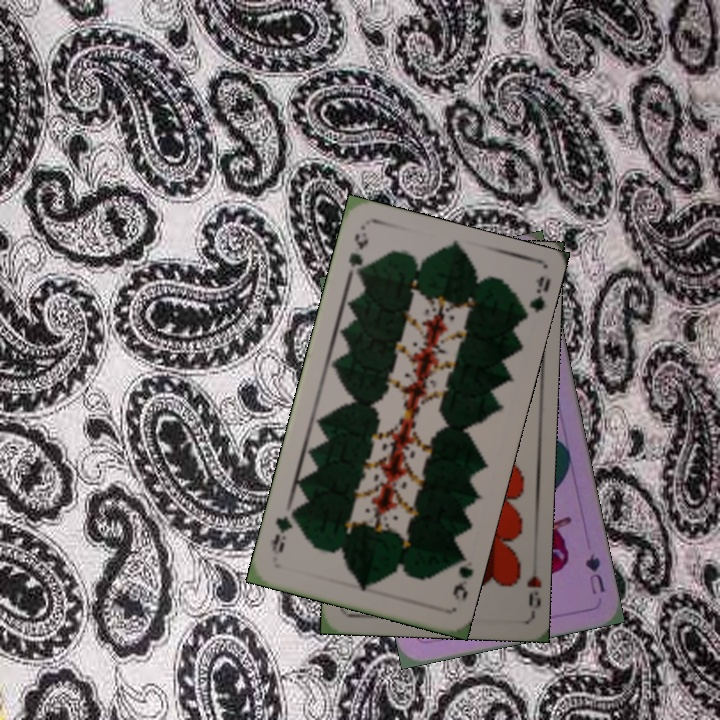G9: (449, 550, 476, 604), (344, 228, 371, 280)
GU: (581, 549, 608, 598)
H9: (523, 571, 542, 609)
